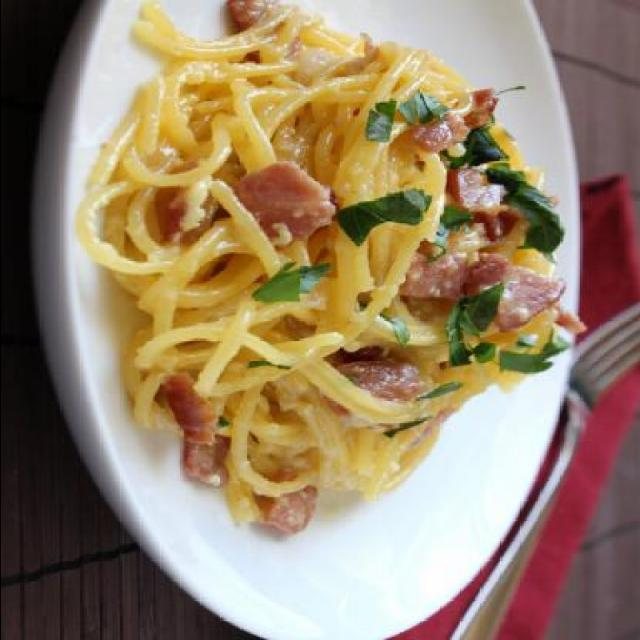Pasta with carbonara sauce: (104, 22, 578, 550)
